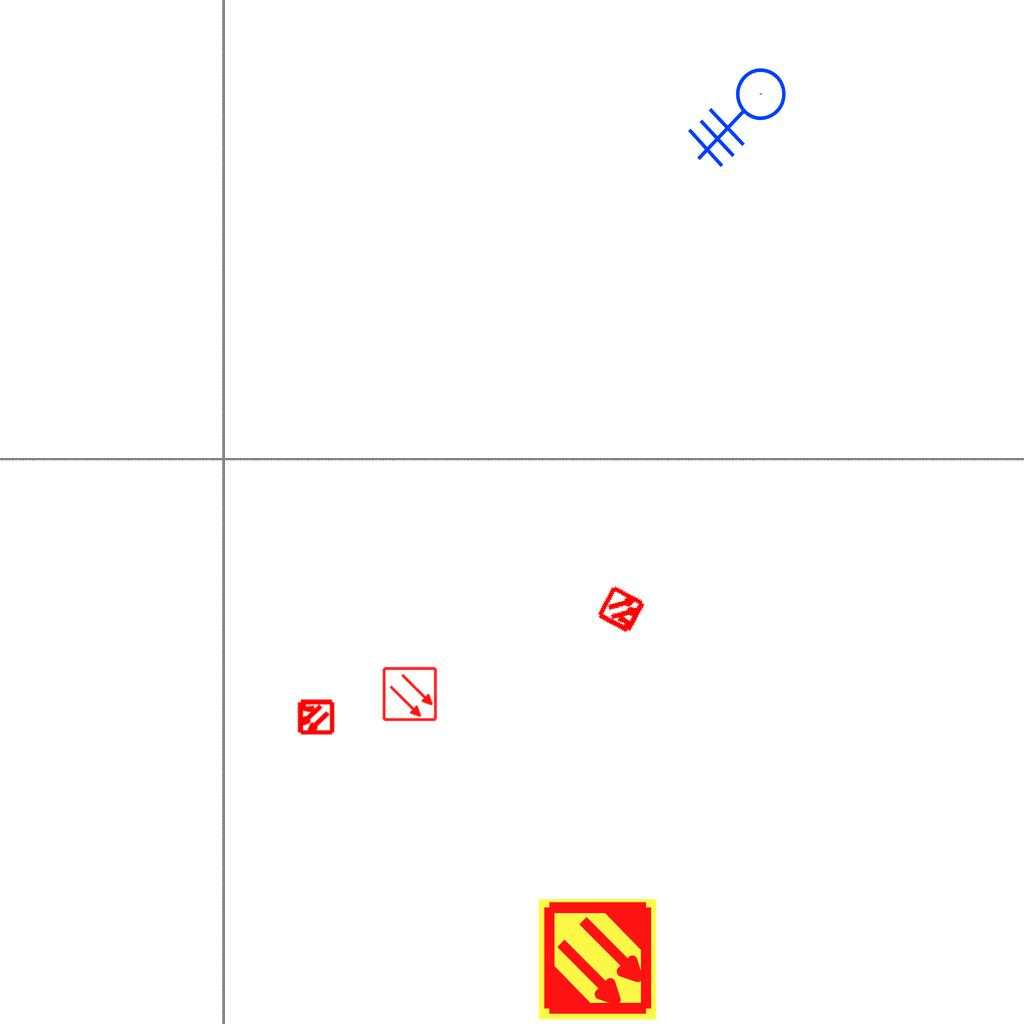ASR_Ansaugrauchmelder: (535, 897, 660, 1022)
Elektroanschluss_allgemein_400V_Geraeteanschlussdose_400V: (687, 67, 803, 180)
OT_Multisensormelder_(Kombination_RMO_WMD): (584, 572, 660, 648), (287, 689, 343, 745)
RMO_Rauchmelder_optischer: (382, 666, 438, 722)
